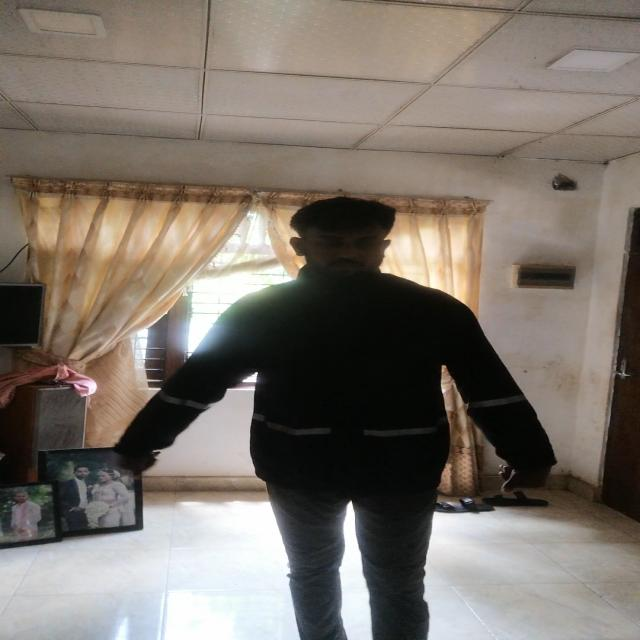Jacket_Wearer: (121, 270, 558, 512)
Person: (120, 202, 557, 640)
